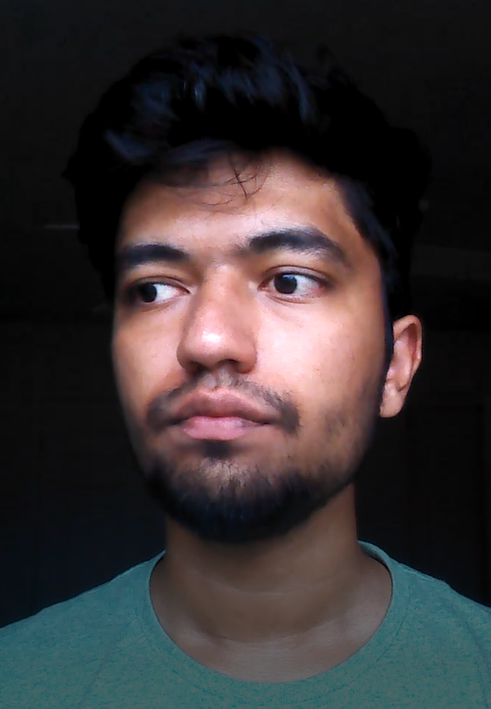Not Sleeping: (105, 231, 361, 320)
